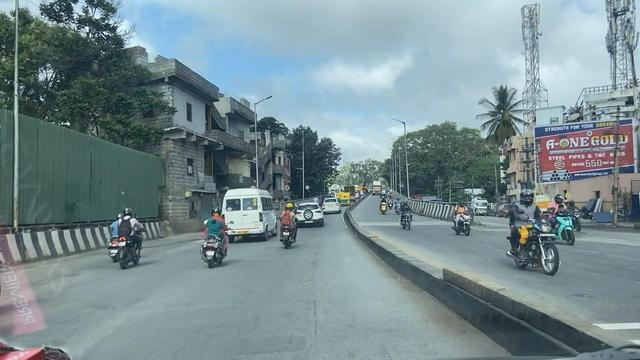HMV: (220, 187, 272, 238)
LMV: (115, 206, 148, 265), (200, 211, 227, 266), (278, 204, 299, 252), (298, 202, 324, 229)
UnsurfacedRoad: (230, 333, 321, 360)
